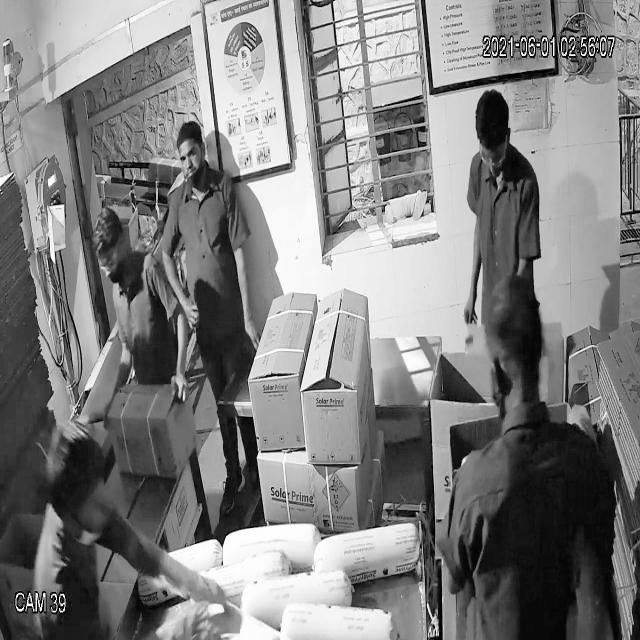glasses: (477, 132, 511, 172), (94, 239, 125, 277)
